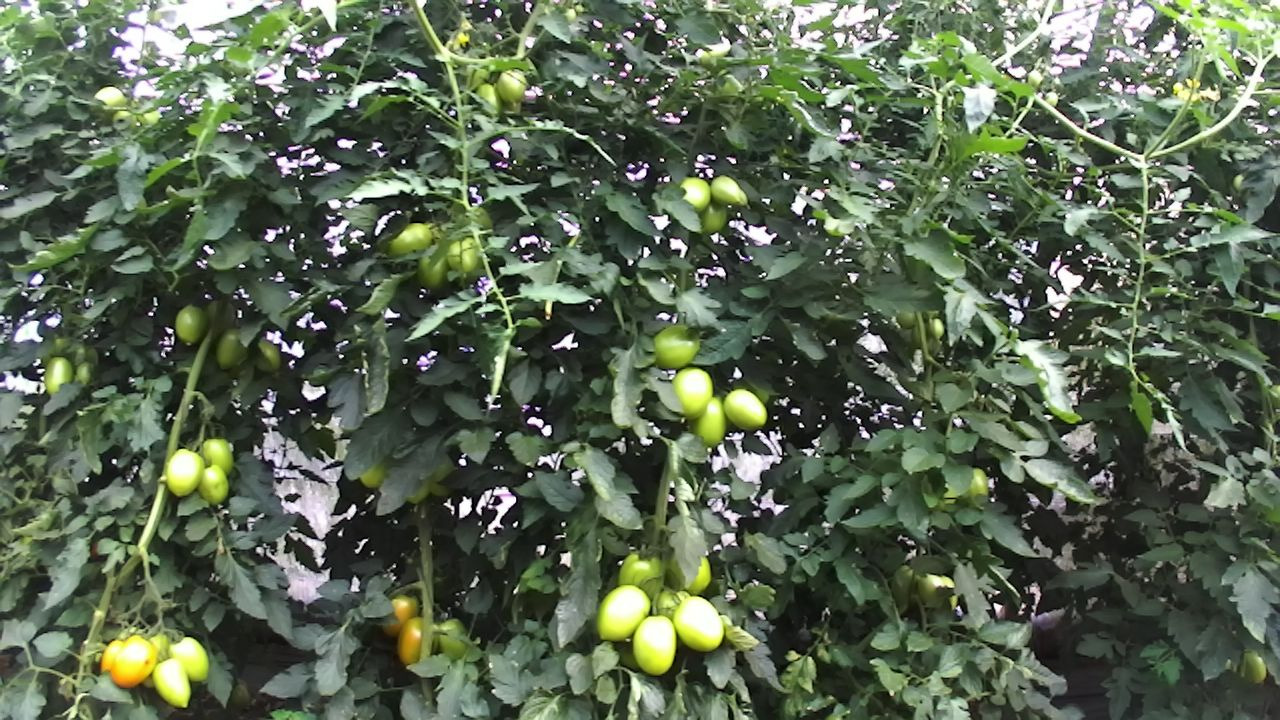tomato: (593, 581, 653, 644), (668, 592, 726, 655), (611, 545, 674, 601), (644, 317, 703, 374), (630, 611, 678, 679), (108, 632, 159, 692), (685, 391, 734, 450), (148, 656, 194, 712), (672, 362, 717, 418), (394, 612, 436, 669), (165, 634, 212, 684), (377, 590, 422, 642), (384, 218, 437, 262), (163, 447, 205, 500), (721, 387, 768, 433), (39, 350, 78, 399), (413, 242, 449, 294), (493, 63, 532, 108), (199, 434, 238, 478), (171, 302, 209, 346), (214, 325, 249, 372), (444, 234, 481, 275), (197, 463, 230, 508), (708, 171, 744, 208)
